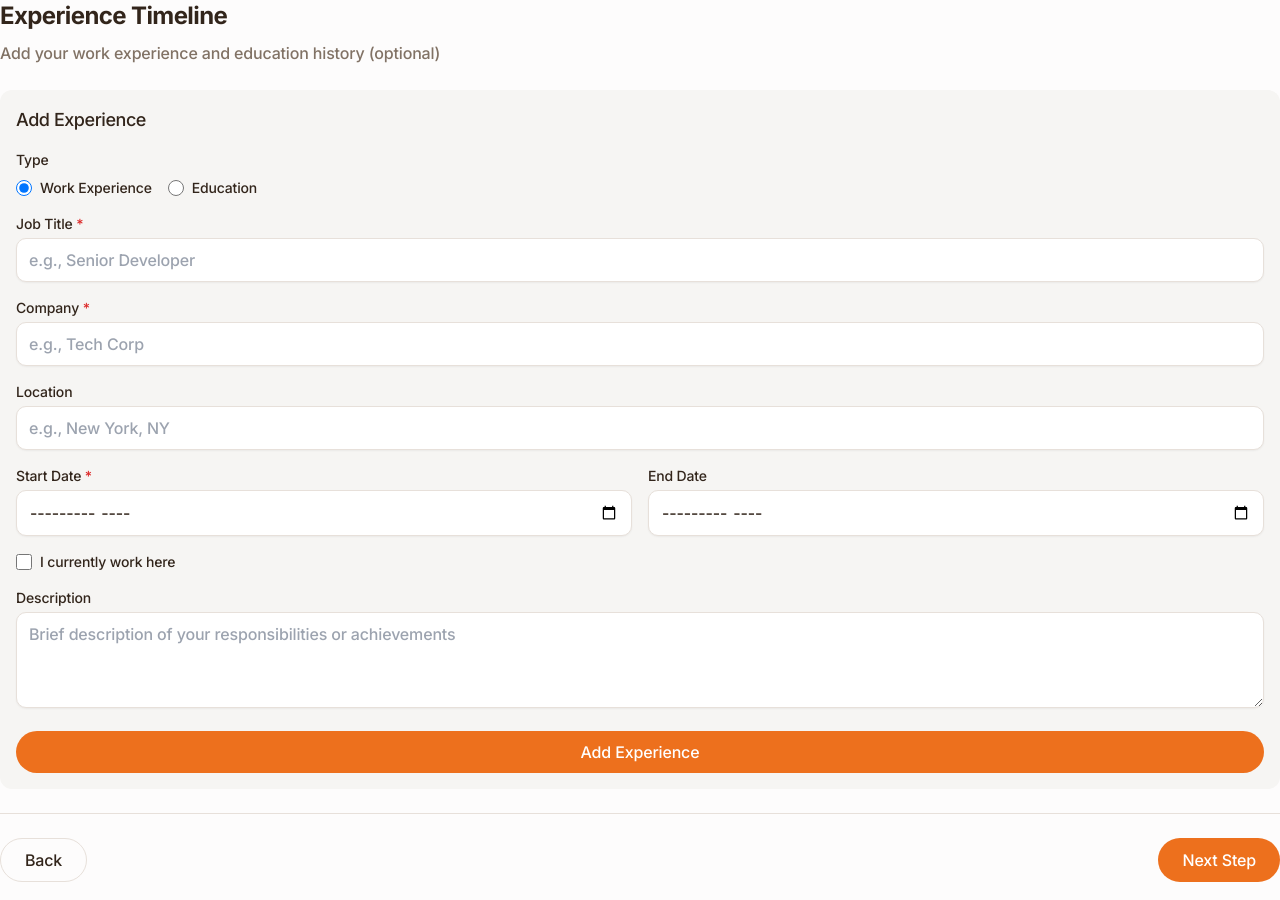
Test case: Step3ExperienceTimeline › Form Validation › shows error when organization is empty
Type "Software Engineer" into the field labelled "Job Title *" at (640, 260), box [16,238,1264,282]
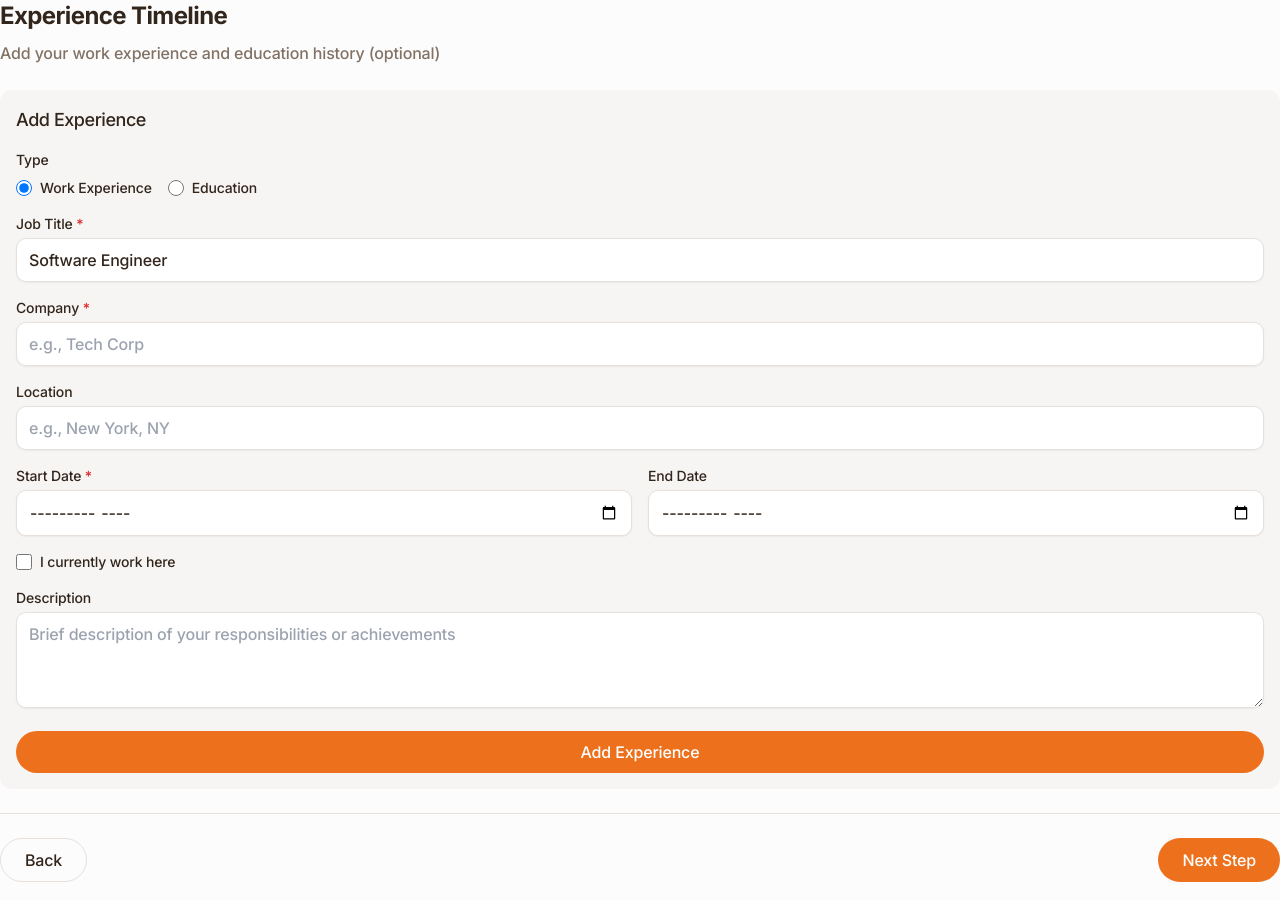
Click the button "Add Experience" at (640, 752), box [16,731,1264,773]
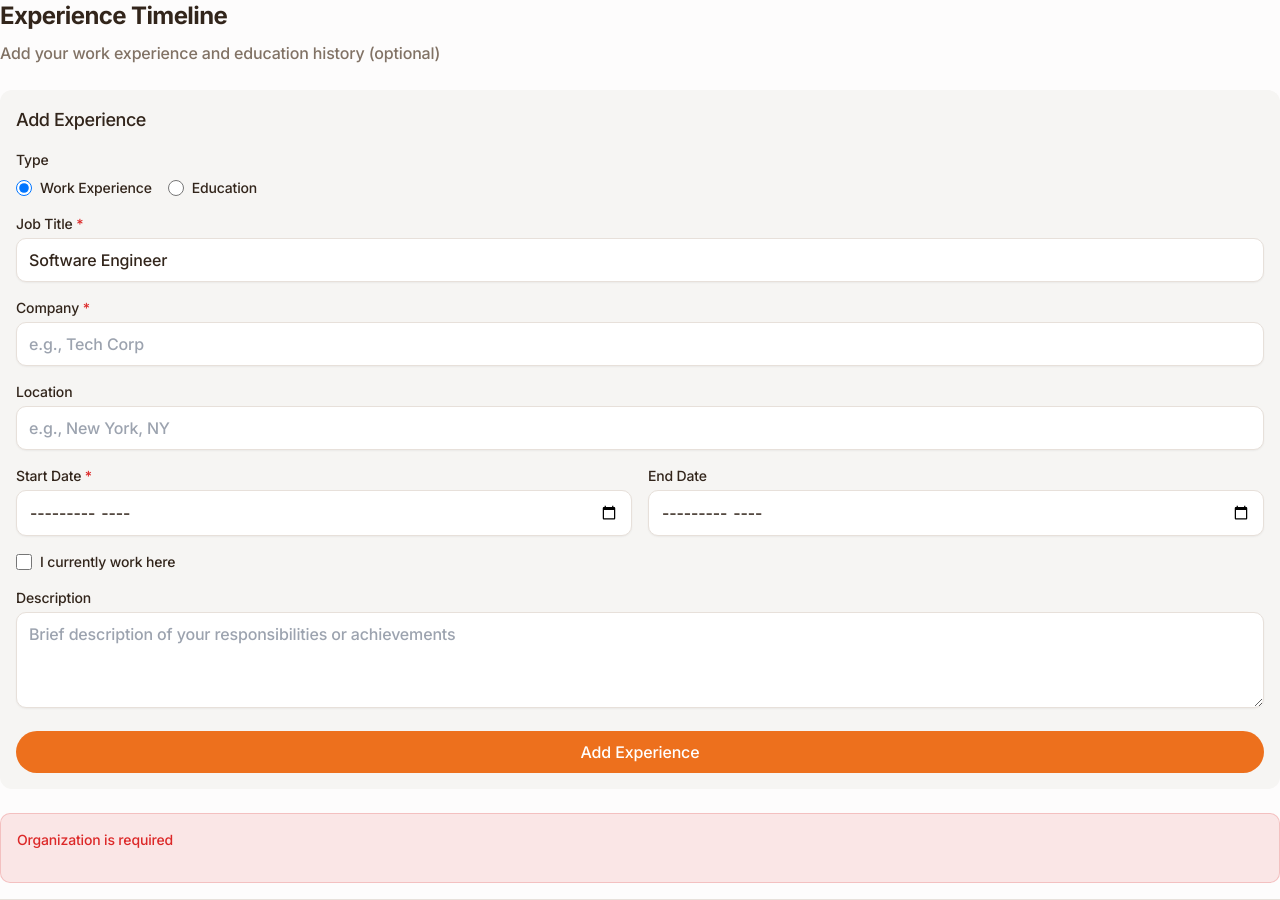
Expected: the text "Organization is required" is shown, [17,831,173,848]
